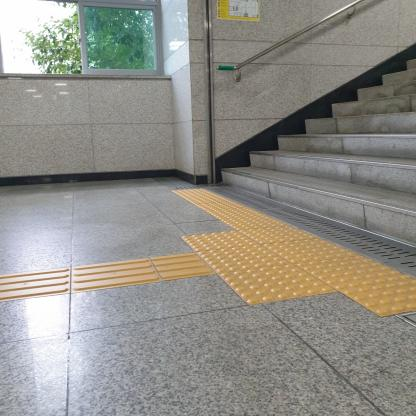go: (71, 258, 163, 293), (0, 267, 72, 302), (149, 252, 216, 281)
stop: (218, 264, 339, 305), (294, 255, 416, 292), (196, 244, 294, 274), (261, 238, 361, 264), (179, 230, 260, 252), (237, 225, 320, 245)
